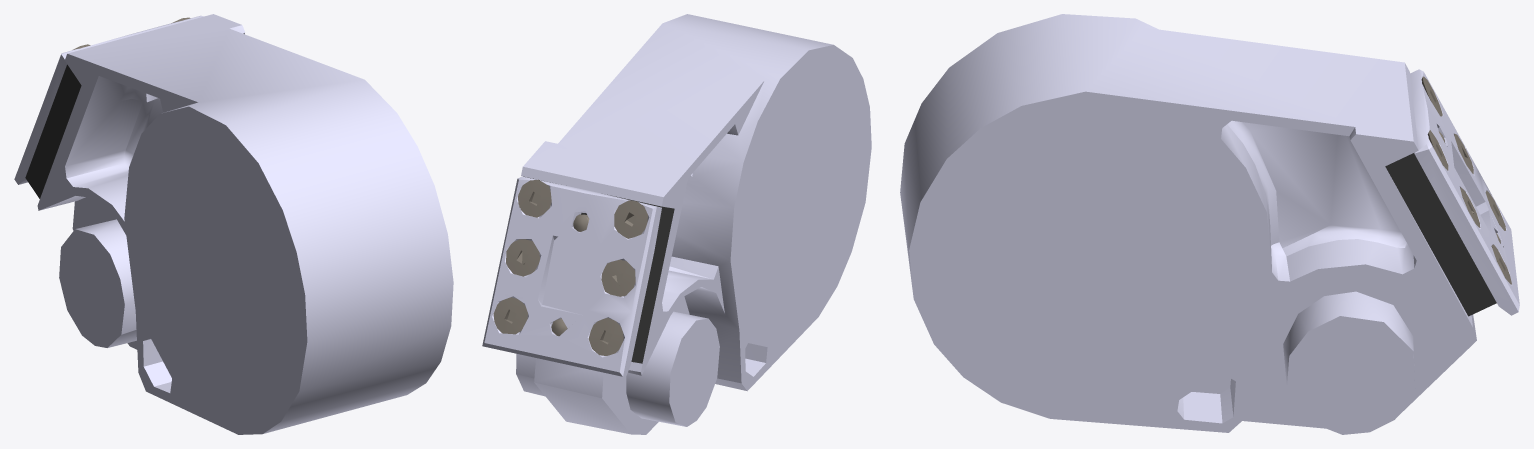
The model's file is left-knee.obj.
3 views of the same model, side by side, from view 1: azimuth 30°, elevation 25°; view 2: azimuth 150°, elevation 25°; view 3: azimuth 270°, elevation 25° (orthographic). The views are drawn at different scales.
Parts seen in each view (by area): view 1: left_knee; view 2: left_knee; view 3: left_knee.
Boxes of the visible parts, box(x1,y1,x2,y2) form: left_knee: box(14, 14, 453, 434); left_knee: box(482, 14, 871, 434); left_knee: box(900, 14, 1519, 434).
Bounding box in the file's own units: 0.0566 × 0.1057 × 0.1655.
Materials: 1 (1 with a texture image).
